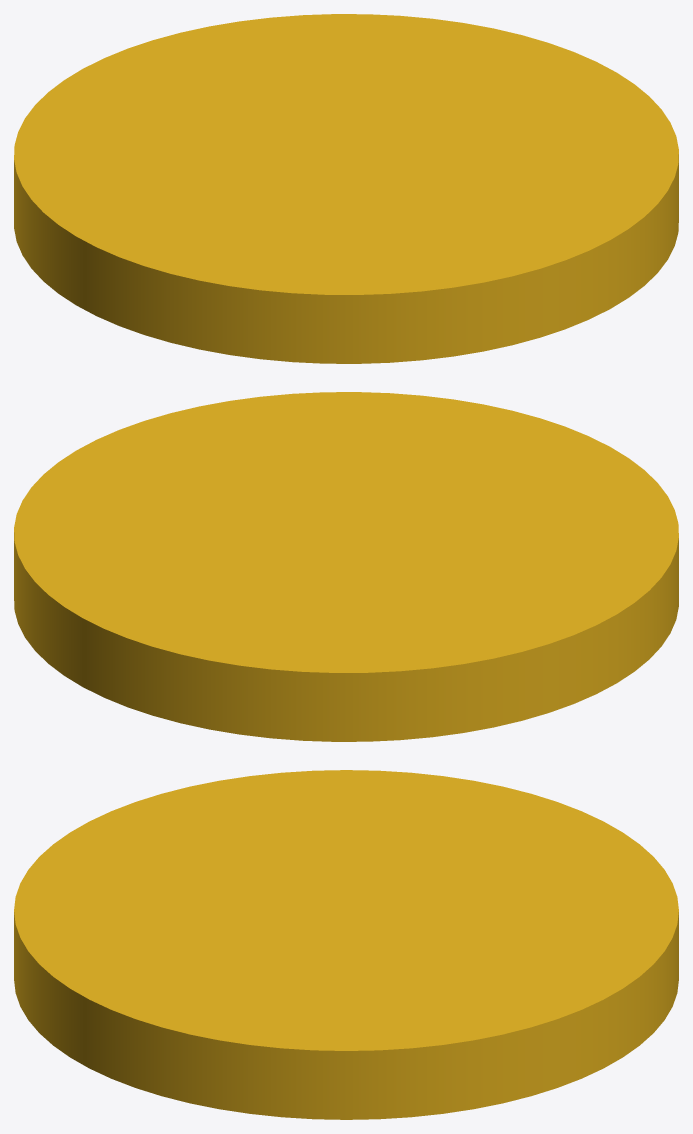
The model's file is poker_chip.glb.
The picture shows the model from 3 angles, top to bottom: view 1: azimuth 30°, elevation 25°; view 2: azimuth 150°, elevation 25°; view 3: azimuth 270°, elevation 25°; orthographic projection.
Visible parts, largest first — view 1: Chip; view 2: Chip; view 3: Chip.
Boxes of the visible parts, bbox=[...] form: Chip: bbox=[14, 14, 678, 363]; Chip: bbox=[14, 392, 678, 741]; Chip: bbox=[14, 770, 678, 1119].
Bounding box in the file's own units: 0.7 × 0.08 × 0.7.
